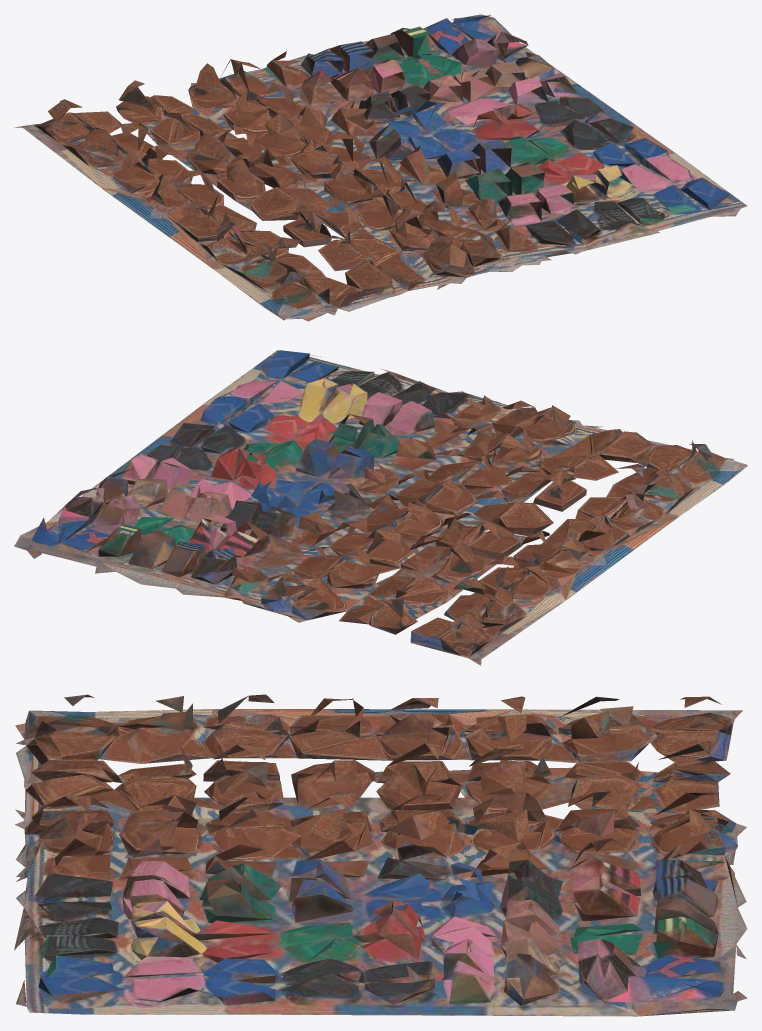
The model's file is shoesmat.glb.
3 renders of one model, top to bottom at view 1: azimuth 30°, elevation 25°; view 2: azimuth 150°, elevation 25°; view 3: azimuth 270°, elevation 25°, orthographic. The views are drawn at different scales.
Size of the model in its own units: 1.88 by 0.1253 by 1.9.
Materials: 1 (1 with a texture image).
